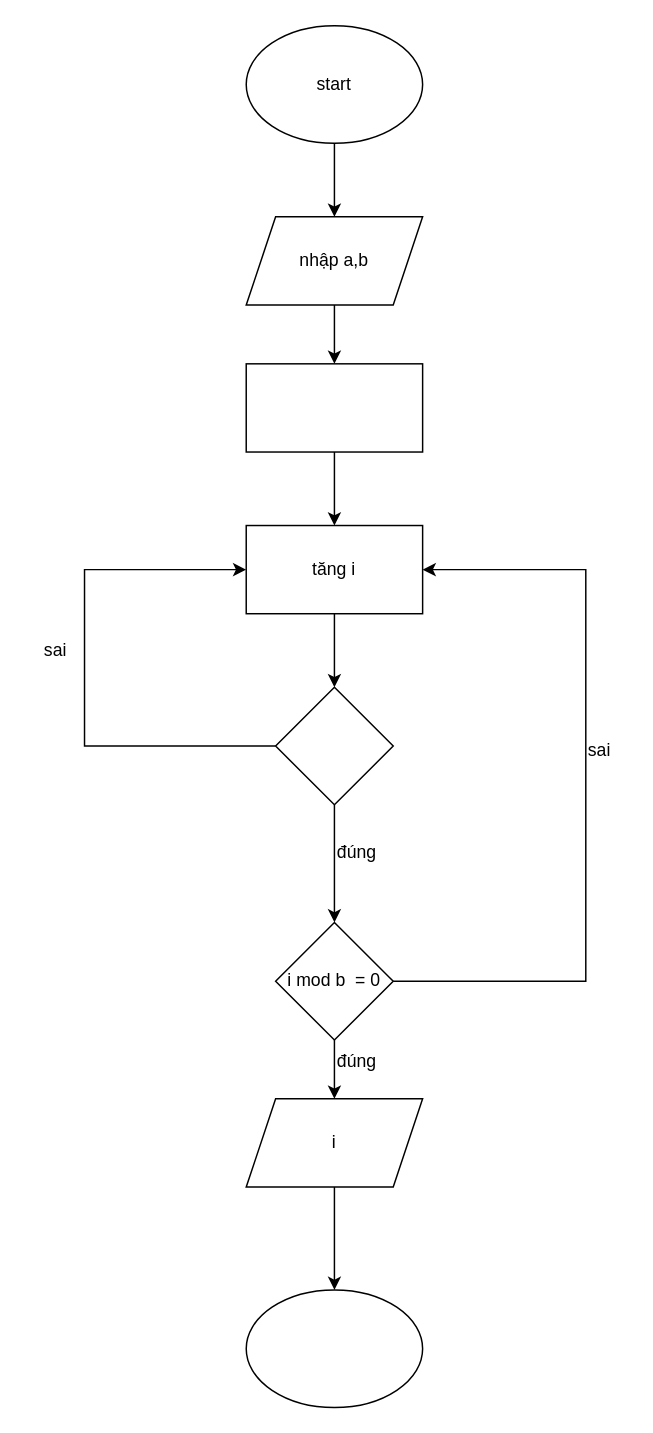
Image size: 653x1433. Some labels were removed from this diagram. Each missing label, with the centre of its shape:
end: point (334, 1348)
i = a: point (334, 407)
i mod a =0: point (333, 745)
